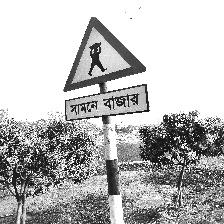Market-in-front: (62, 16, 150, 122)
